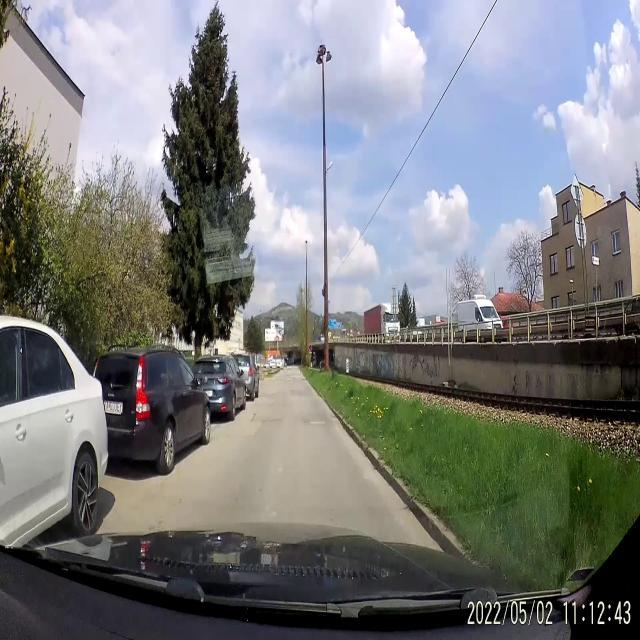Manhole: (306, 416, 327, 430)
